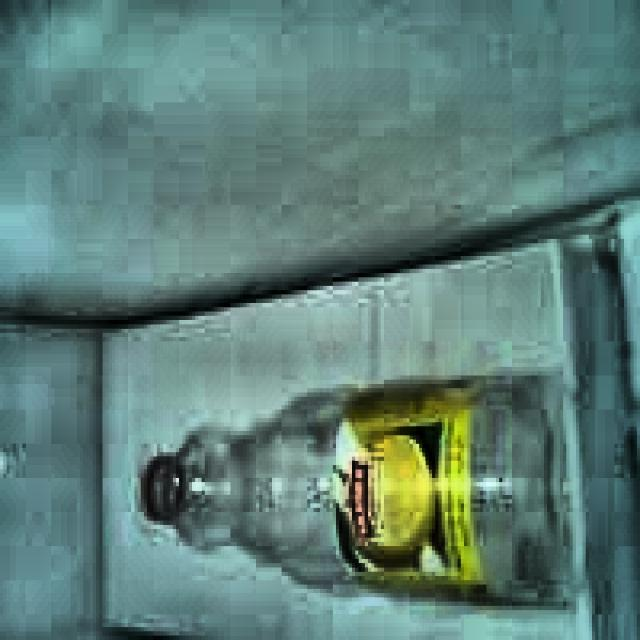Bottles: (116, 350, 633, 628)
